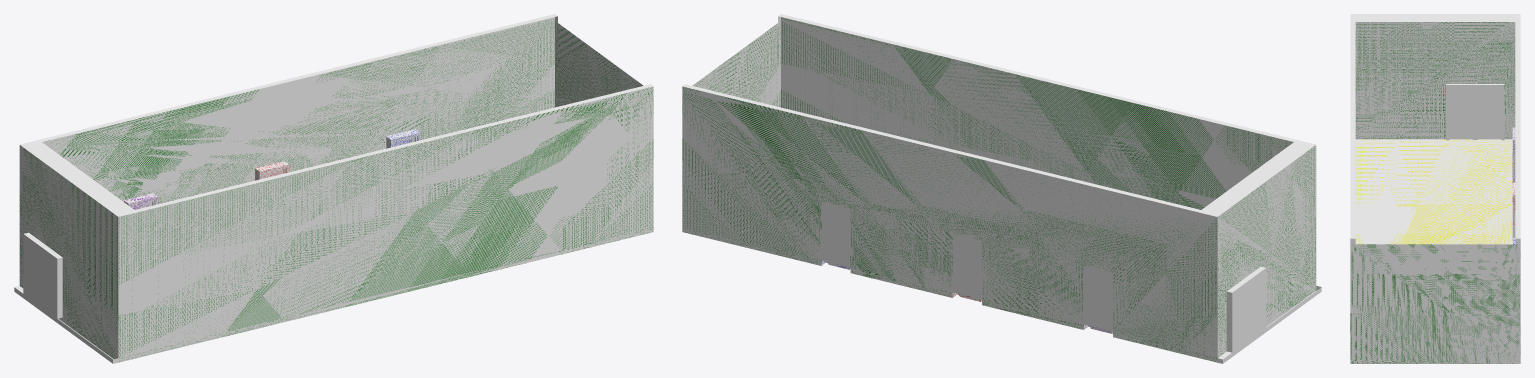
The picture shows the model from 3 angles, left to right: view 1: azimuth 30°, elevation 25°; view 2: azimuth 150°, elevation 25°; view 3: azimuth 270°, elevation 25°; orthographic projection. The views are drawn at different scales.
Visible parts, largest first — view 1: SketchUp (×3); view 2: SketchUp (×6); view 3: SketchUp (×6).
Part boxes in pixels (x1,y1,x2,y2): SketchUp (×3): [14, 14, 653, 363]; SketchUp (×6): [682, 14, 1321, 363]; SketchUp (×6): [1350, 14, 1520, 363].
Bounding box in the file's own units: 795 × 252 × 205.
